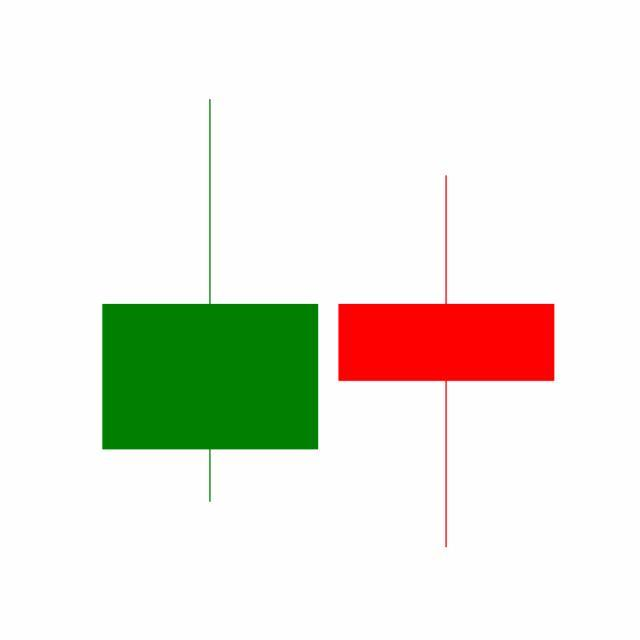Spinning Top: (328, 171, 566, 552)
